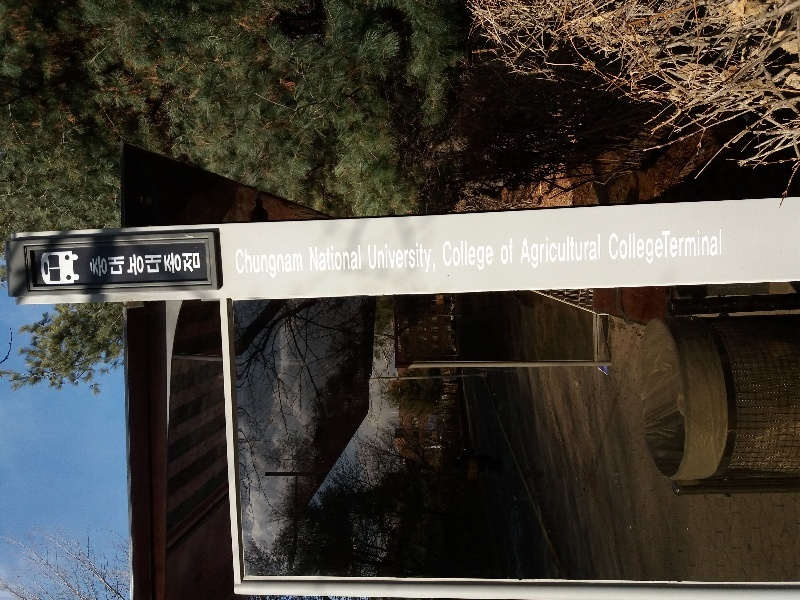text: (625, 228, 640, 271), (641, 228, 656, 271), (657, 228, 672, 271), (673, 228, 688, 271), (689, 228, 704, 271), (705, 228, 720, 271), (610, 228, 624, 271), (529, 233, 544, 272), (545, 233, 560, 272), (561, 233, 576, 272), (577, 233, 592, 272), (289, 248, 305, 283), (241, 248, 256, 283), (257, 248, 272, 283), (273, 248, 288, 283), (369, 242, 384, 274), (385, 242, 400, 274), (401, 242, 416, 274), (417, 242, 432, 274), (449, 240, 464, 272), (465, 240, 480, 272), (321, 244, 336, 274), (337, 244, 352, 274), (481, 240, 495, 272), (97, 252, 112, 279), (113, 252, 128, 279), (129, 252, 144, 279), (145, 252, 160, 279), (161, 252, 176, 279), (177, 252, 192, 279), (307, 244, 320, 274), (500, 238, 512, 266), (593, 233, 601, 272), (353, 244, 362, 274), (87, 252, 96, 279), (193, 252, 201, 279), (234, 248, 240, 283), (523, 233, 528, 272), (433, 242, 438, 274), (443, 240, 448, 272), (721, 228, 723, 271), (397, 336, 400, 353), (367, 242, 368, 274), (401, 336, 402, 353)
